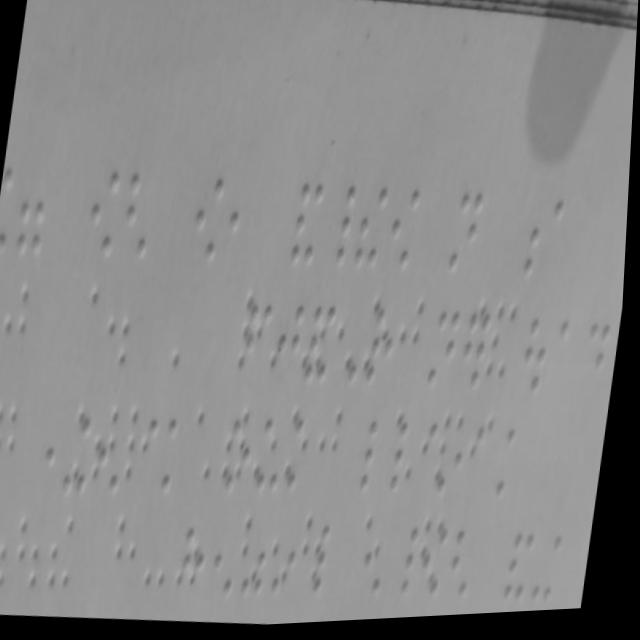braiile: (9, 151, 58, 266), (83, 157, 126, 267), (289, 176, 332, 281), (188, 176, 229, 275), (346, 412, 386, 508), (387, 181, 425, 280), (365, 304, 405, 398), (96, 412, 135, 503), (356, 186, 394, 279), (213, 516, 251, 608), (377, 414, 415, 506), (323, 185, 360, 278), (302, 520, 340, 610), (390, 520, 428, 607), (361, 520, 398, 609), (438, 420, 475, 509), (244, 516, 280, 606), (306, 306, 343, 391), (335, 305, 370, 393), (421, 526, 458, 608), (488, 423, 522, 512), (534, 536, 571, 617), (506, 531, 542, 612), (274, 520, 308, 605)
